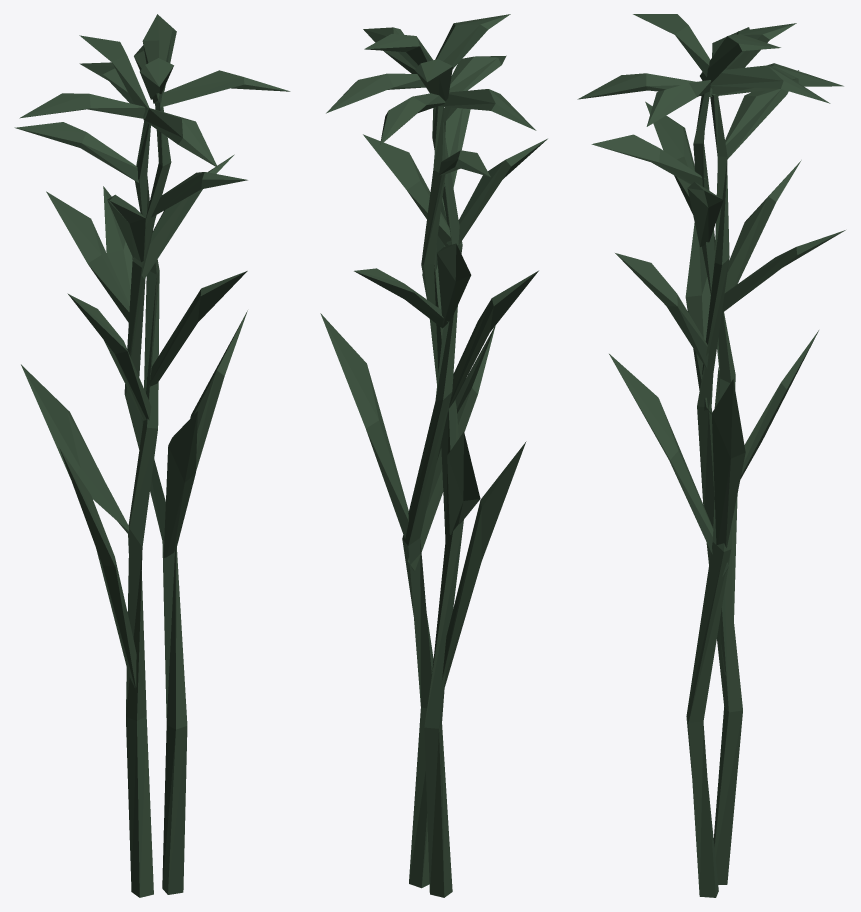
The model's file is SM_Env_Seaweed_01.glb.
3 renders of one model, left to right at view 1: azimuth 30°, elevation 25°; view 2: azimuth 150°, elevation 25°; view 3: azimuth 270°, elevation 25°, orthographic.
Parts seen in each view (by area): view 1: SM_Env_Seaweed_01_part00; view 2: SM_Env_Seaweed_01_part00; view 3: SM_Env_Seaweed_01_part00.
Boxes of the visible parts, left/top/right/bottom form: SM_Env_Seaweed_01_part00: left=14, top=14, right=290, bottom=897; SM_Env_Seaweed_01_part00: left=320, top=14, right=547, bottom=897; SM_Env_Seaweed_01_part00: left=577, top=14, right=845, bottom=897.
Size of the model in its own units: 0.8291 by 3.02 by 0.8607.
Materials: 1 (1 with a texture image).
